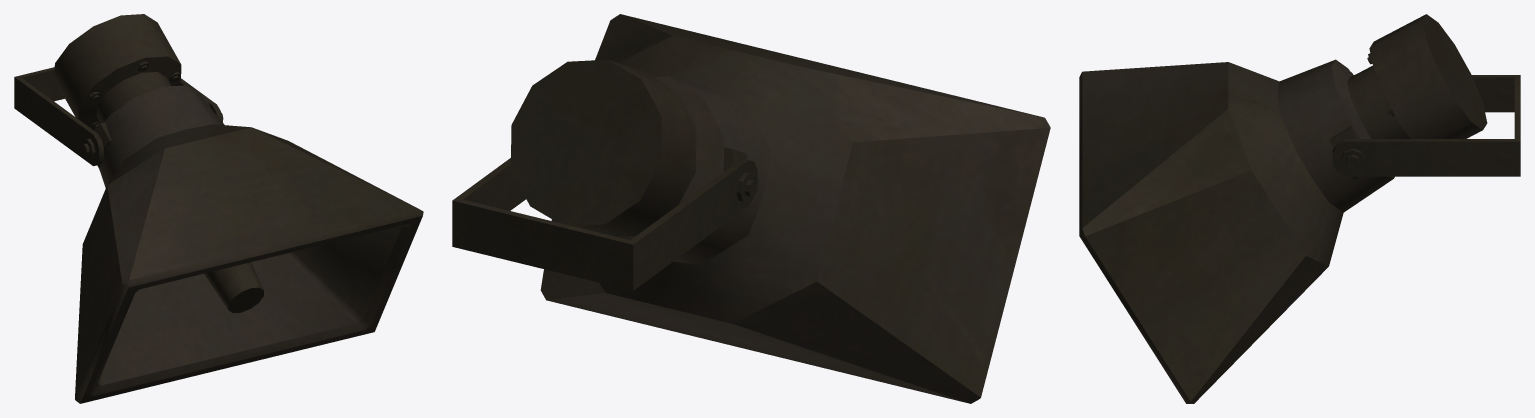
Rendered from speaker_mx_1.obj.
The picture shows the model from 3 angles, left to right: view 1: azimuth 30°, elevation 25°; view 2: azimuth 150°, elevation 25°; view 3: azimuth 270°, elevation 25°; orthographic projection. The views are drawn at different scales.
Visible parts, largest first — view 1: speaker_mx_1; view 2: speaker_mx_1; view 3: speaker_mx_1.
Part boxes in pixels (x1,y1,x2,y2): speaker_mx_1: (14,14,423,403); speaker_mx_1: (452,14,1050,403); speaker_mx_1: (1079,14,1520,403).
Size of the model in its own units: 0.4947 by 0.4325 by 0.5677.
